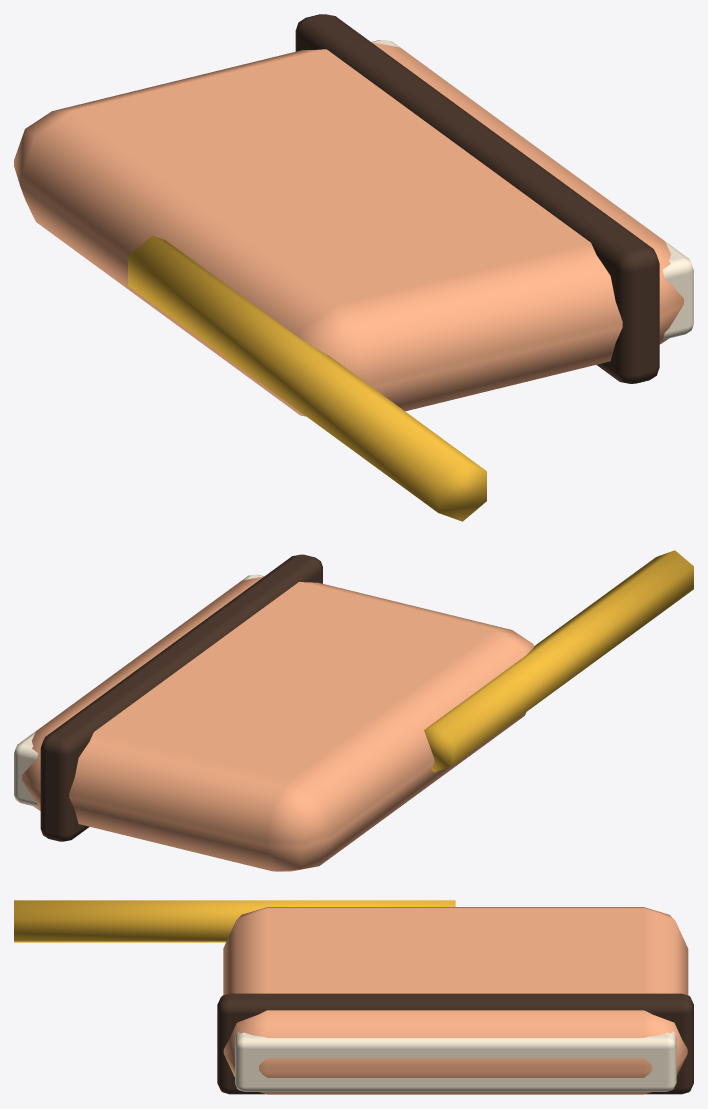
File: pocket_notebook.glb
3 views of the same model, one above another, from view 1: azimuth 30°, elevation 25°; view 2: azimuth 150°, elevation 25°; view 3: azimuth 270°, elevation 25° (orthographic). The views are drawn at different scales.
Visible parts, largest first — view 1: Cover, Pencil, Elastic, Pages; view 2: Cover, Pencil, Elastic, Pages; view 3: Cover, Pages, Elastic, Pencil.
Part boxes in pixels (x1,y1,x2,y2): Cover: [14, 42, 683, 416]; Pencil: [128, 235, 486, 521]; Elastic: [295, 14, 659, 383]; Pages: [372, 40, 693, 339]; Cover: [22, 576, 533, 871]; Pencil: [424, 550, 693, 772]; Elastic: [40, 554, 322, 841]; Pages: [14, 574, 263, 807]; Cover: [223, 907, 688, 1094]; Pages: [235, 1031, 676, 1091]; Elastic: [217, 993, 693, 1094]; Pencil: [14, 900, 455, 942].
Bounding box in the file's own units: 0.1487 × 0.045 × 0.2925.
